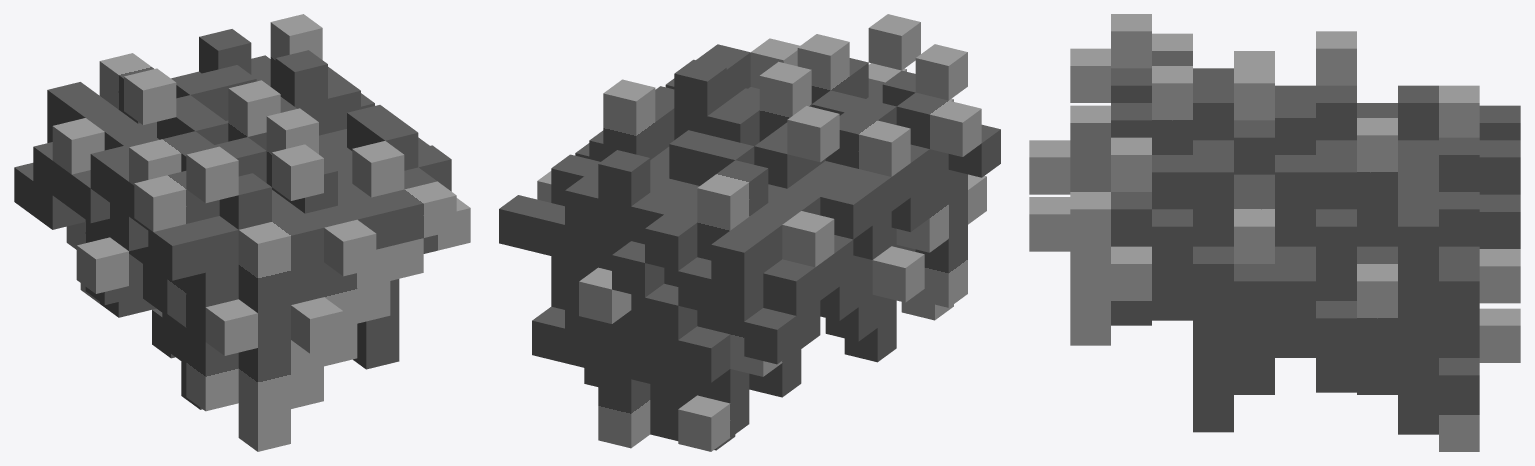
3 views of the same model, side by side, from view 1: azimuth 30°, elevation 25°; view 2: azimuth 150°, elevation 25°; view 3: azimuth 270°, elevation 25° (orthographic). The views are drawn at different scales.
Visible parts, largest first — view 1: Content; view 2: Content; view 3: Content.
Part boxes in pixels (bbox=[...]): Content: bbox=[14, 14, 470, 451]; Content: bbox=[499, 14, 1000, 451]; Content: bbox=[1029, 14, 1520, 451].
Size of the model in its own units: 10 by 9 by 12.
1 material, 1 textured.
